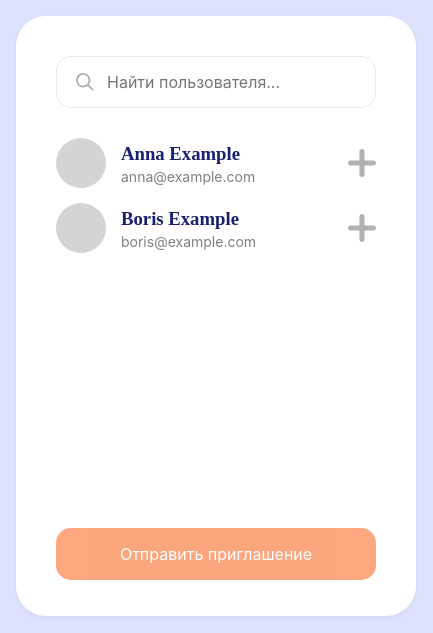
disables sending until a user is selected and after the last selection is removed
Later steps or results of the test are not shown.
Click the button "Отправить приглашение" at (216, 554), box left=56, top=528, right=376, bottom=580
Click the element with class "action" next to "anna@example.com" at (362, 163), box left=348, top=149, right=376, bottom=177
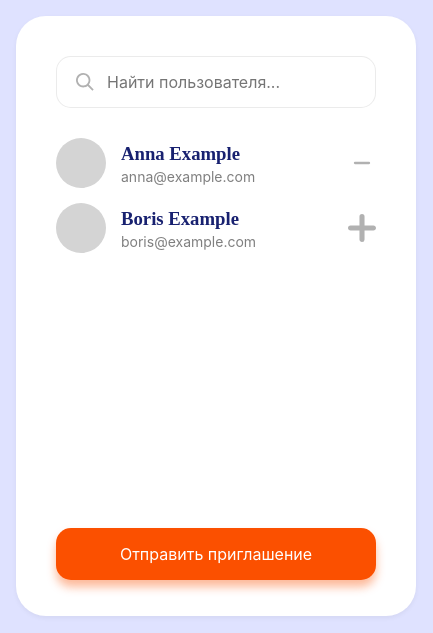
Expected: the button "Отправить приглашение" is enabled, left=56, top=528, right=376, bottom=580
Click the element with class "action" next to "anna@example.com" at (362, 163), box left=348, top=149, right=376, bottom=177
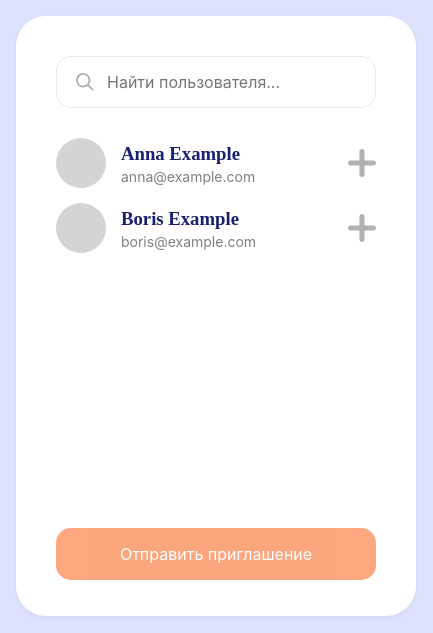
Expected: the button "Отправить приглашение" is disabled, left=56, top=528, right=376, bottom=580
